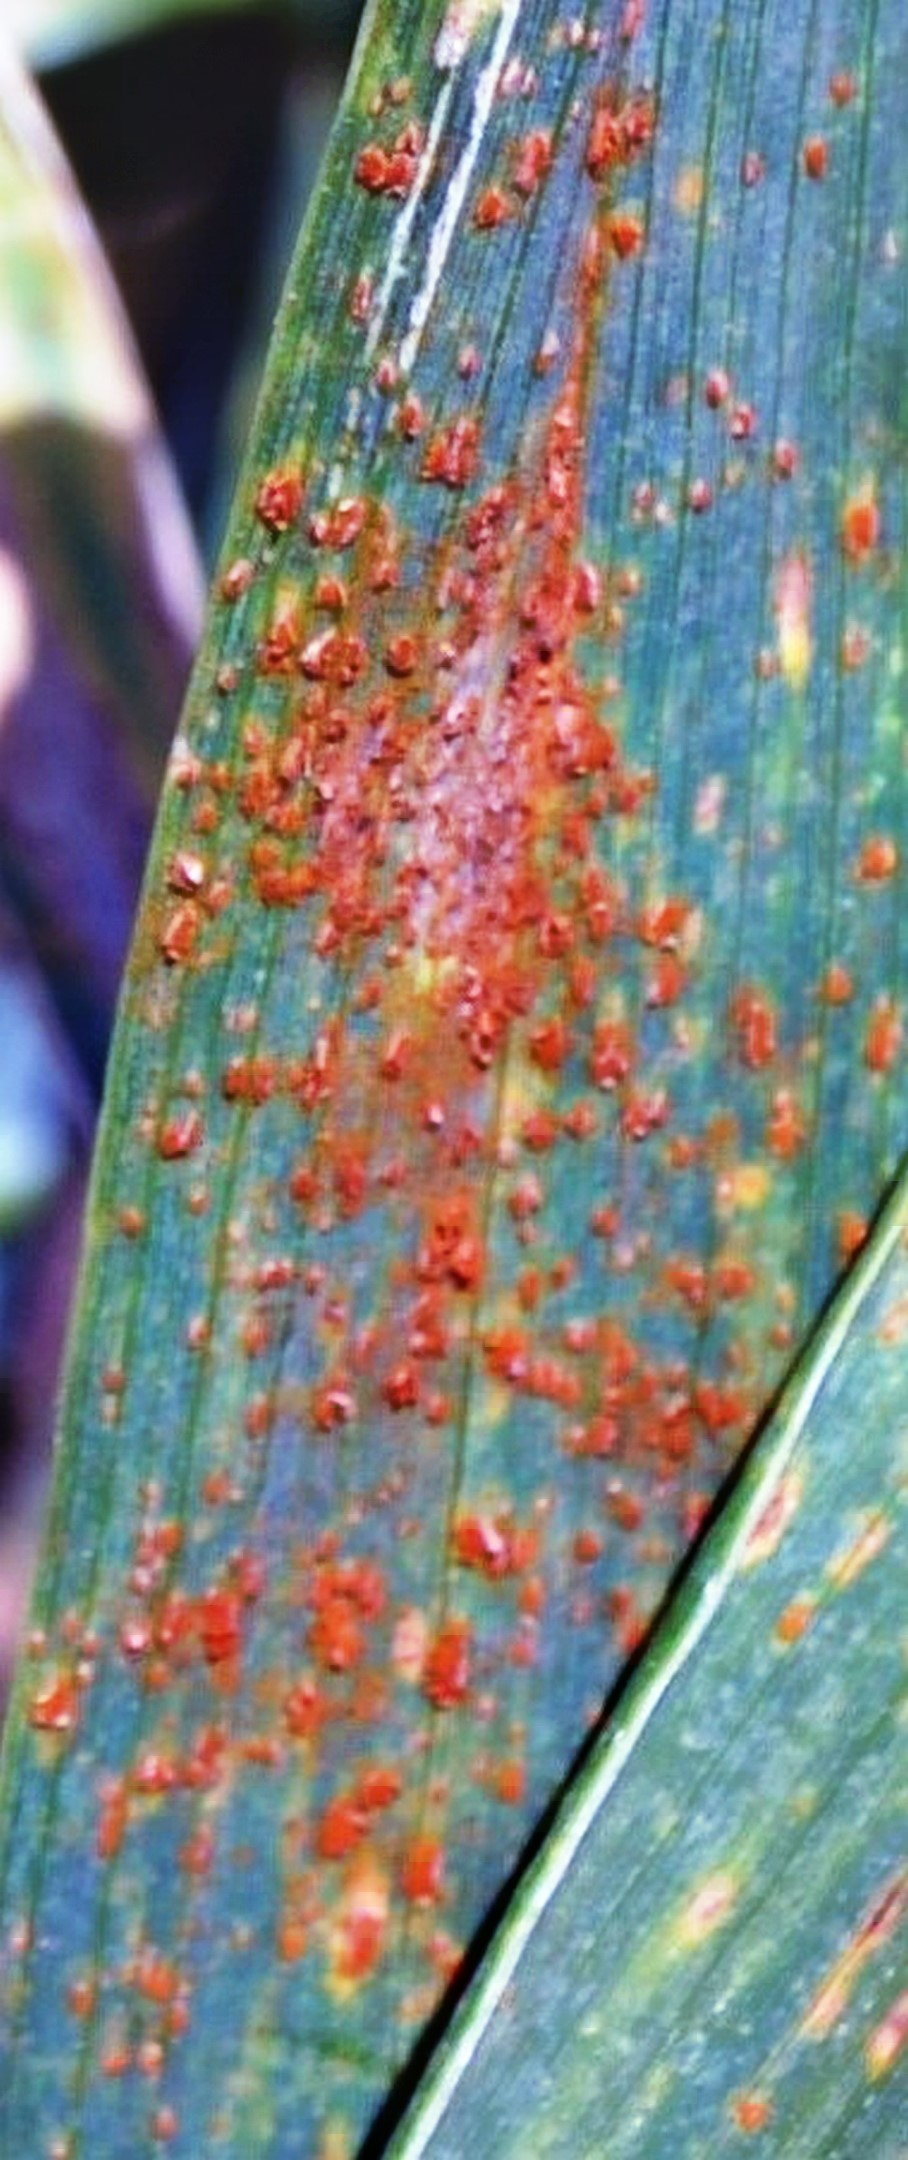Leaf Rust: (45, 45, 876, 1880)
